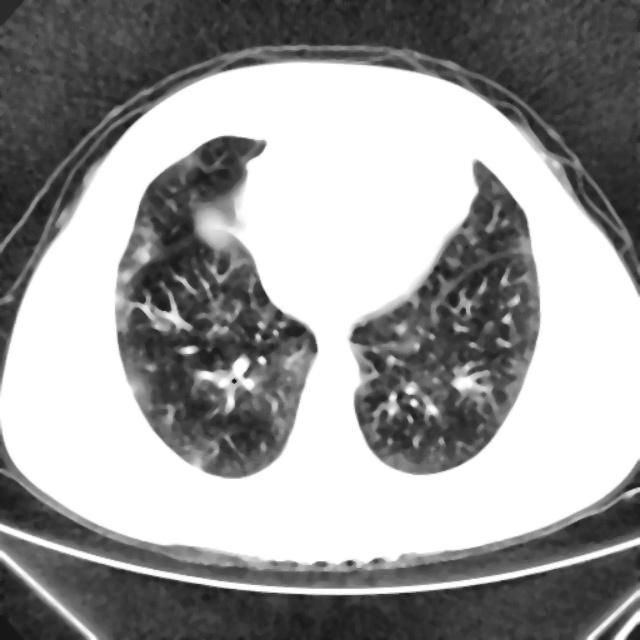covid: (114, 133, 318, 478), (348, 158, 541, 474)
